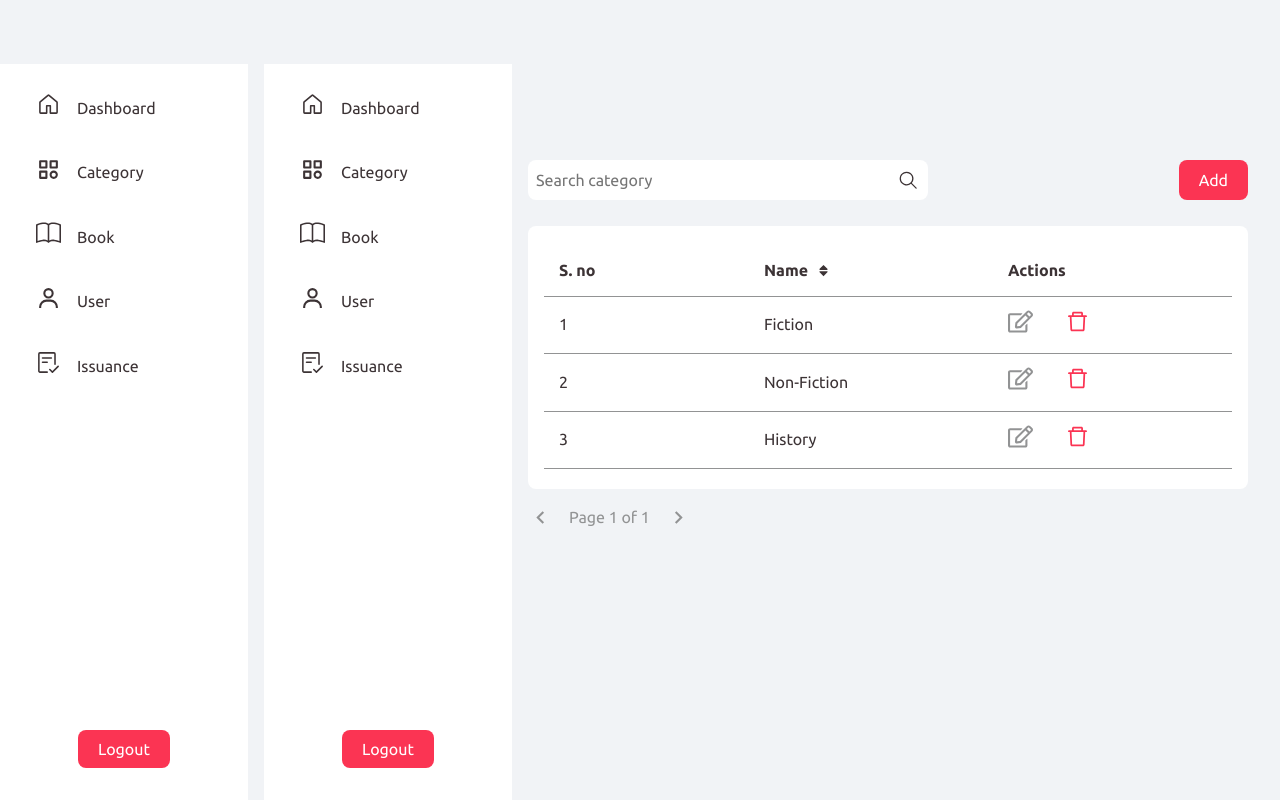
Test: Category component › creates a new category
The image size is (1280, 800).
Click the button "Add": point(1213, 180) 1179,160 -> 1248,200
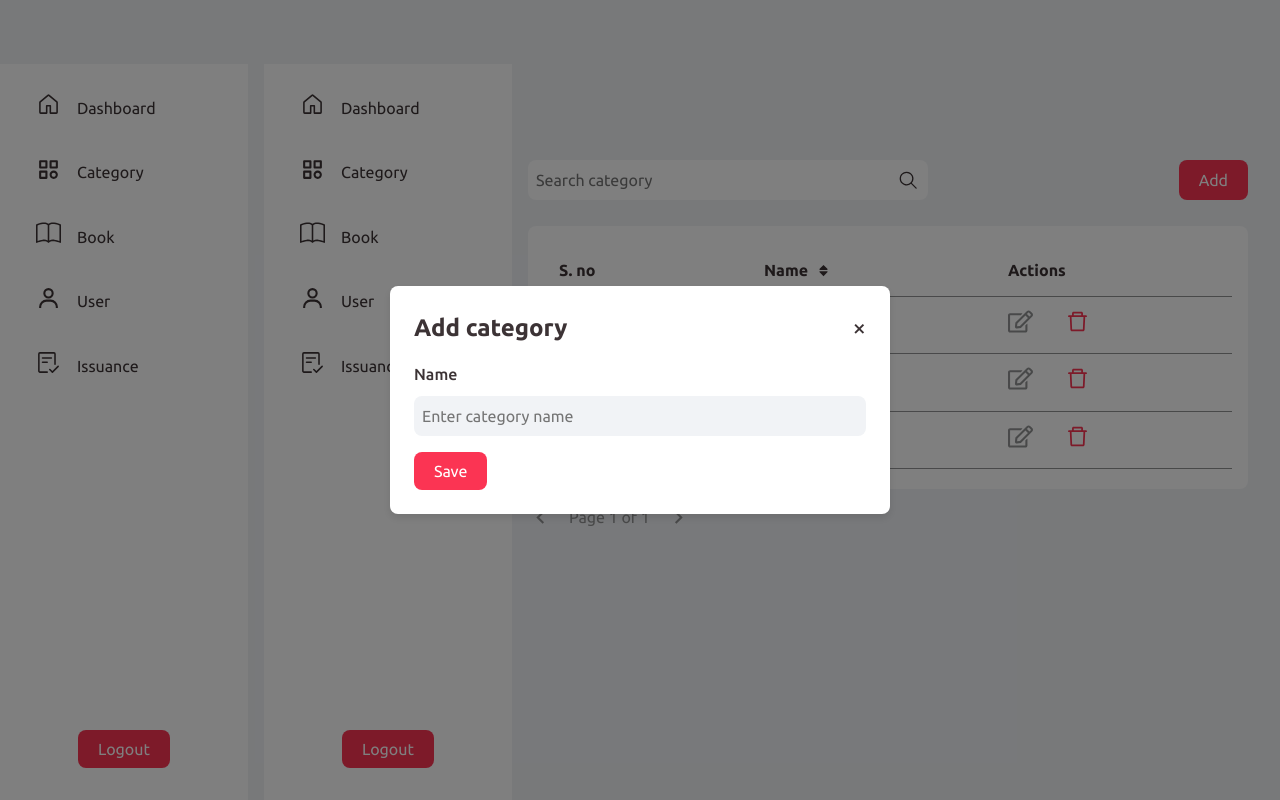
Now the button "Save" is shown, box 414,452 -> 487,490
In the field with placeholder "Enter category name": point(640, 416) 414,396 -> 866,436, type "Politics"
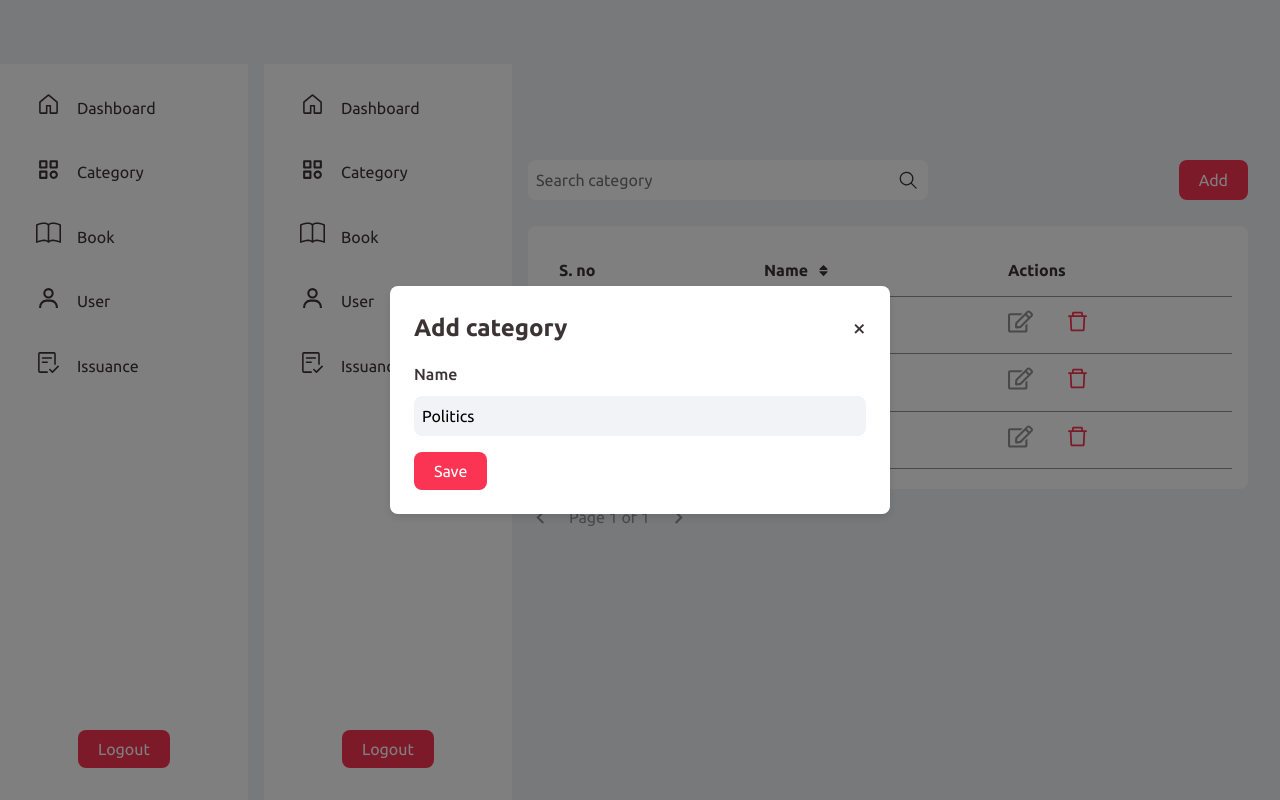
Click the button "Save": point(451, 471) 414,452 -> 487,490
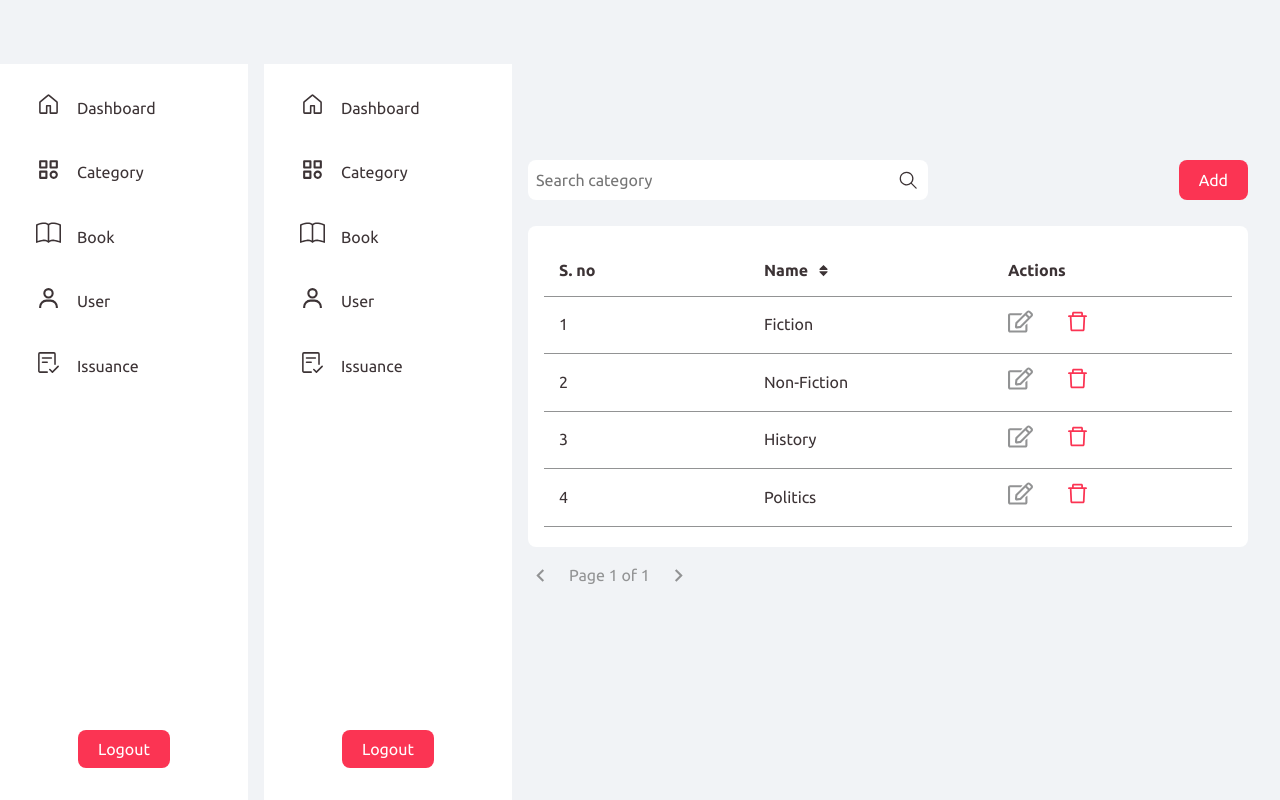
Now the text "Politics" is shown, box 749,469 -> 993,526
